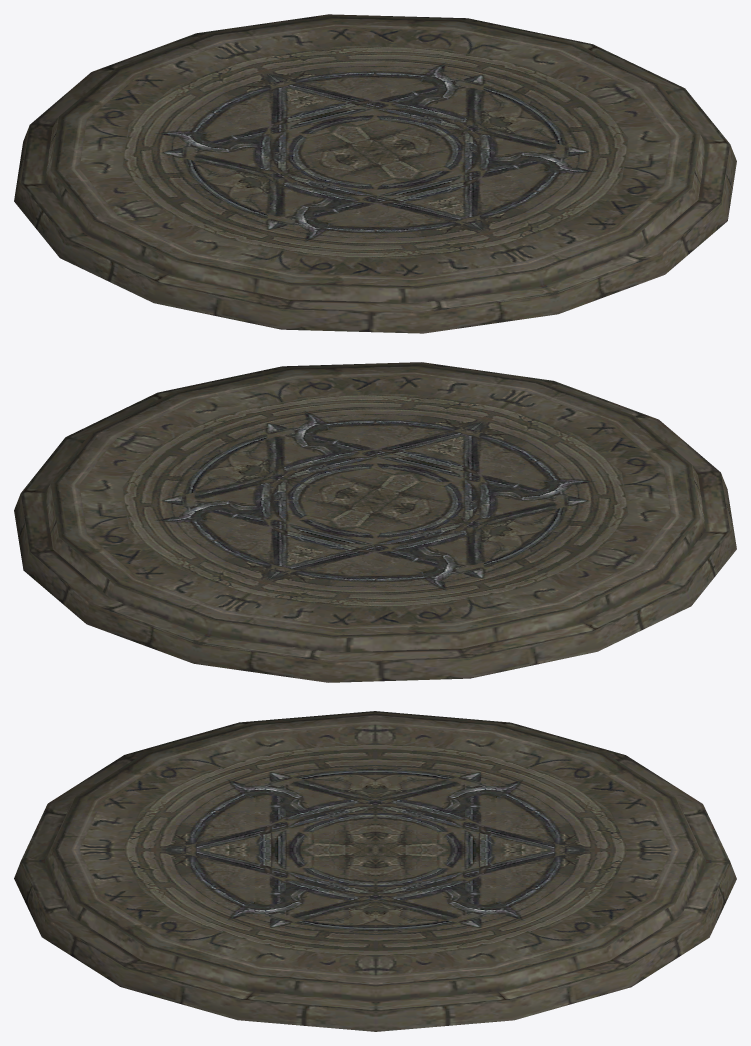
File: S_Build_Forest055.FBX
The picture shows the model from 3 angles, top to bottom: view 1: azimuth 30°, elevation 25°; view 2: azimuth 150°, elevation 25°; view 3: azimuth 270°, elevation 25°; orthographic projection.
Visible parts, largest first — view 1: S_Build_Forest055; view 2: S_Build_Forest055; view 3: S_Build_Forest055.
Boxes of the visible parts, box(x1,y1,x2,y2) form: S_Build_Forest055: box(14, 14, 736, 333); S_Build_Forest055: box(14, 362, 736, 682); S_Build_Forest055: box(14, 711, 736, 1031).
Size of the model in its own units: 599 by 599 by 27.31.
